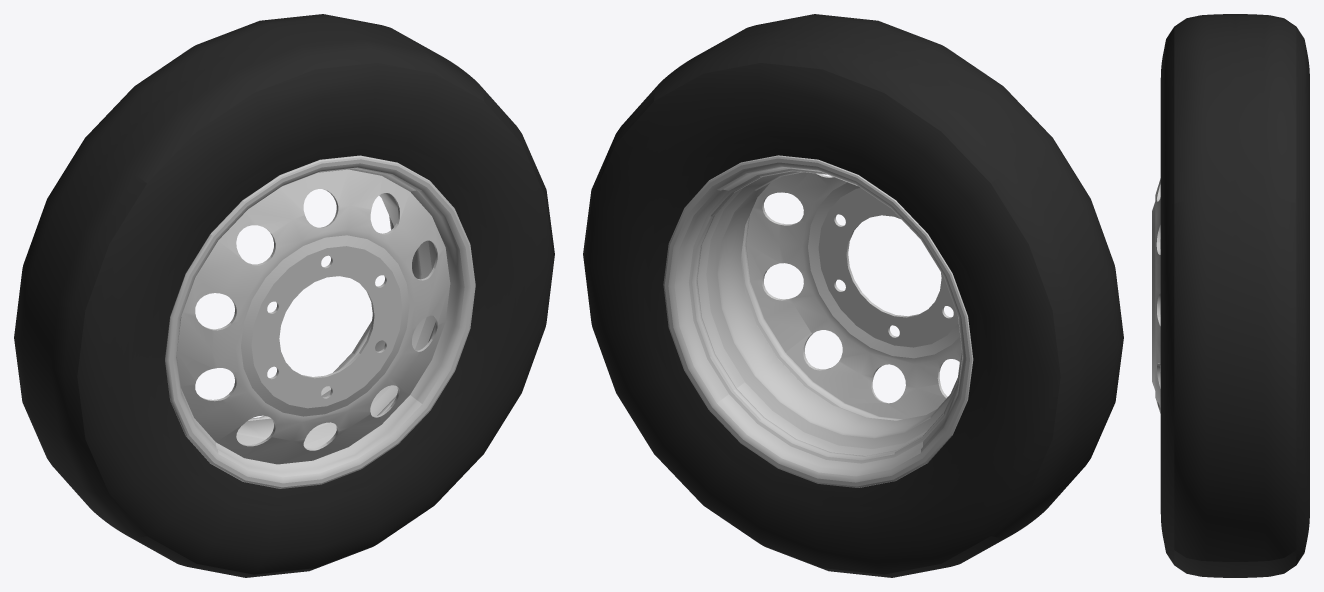
File: wheel.obj
The picture shows the model from 3 angles, left to right: view 1: azimuth 30°, elevation 25°; view 2: azimuth 150°, elevation 25°; view 3: azimuth 270°, elevation 25°; orthographic projection.
Visible parts, largest first — view 1: Mesh2 wheel__0_2 wheel__0_1 wheel__0 wheel RootNode wheel_fbx Sk, Mesh1 wheel__0_2 wheel__0_1 wheel__0 wheel RootNode wheel_fbx Sk; view 2: Mesh2 wheel__0_2 wheel__0_1 wheel__0 wheel RootNode wheel_fbx Sk, Mesh1 wheel__0_2 wheel__0_1 wheel__0 wheel RootNode wheel_fbx Sk; view 3: Mesh2 wheel__0_2 wheel__0_1 wheel__0 wheel RootNode wheel_fbx Sk, Mesh1 wheel__0_2 wheel__0_1 wheel__0 wheel RootNode wheel_fbx Sk.
Boxes of the visible parts, x1=… form: Mesh2 wheel__0_2 wheel__0_1 wheel__0 wheel RootNode wheel_fbx Sk: x1=14, y1=14, x2=554, y2=577; Mesh1 wheel__0_2 wheel__0_1 wheel__0 wheel RootNode wheel_fbx Sk: x1=165, y1=155, x2=475, y2=488; Mesh2 wheel__0_2 wheel__0_1 wheel__0 wheel RootNode wheel_fbx Sk: x1=583, y1=14, x2=1123, y2=577; Mesh1 wheel__0_2 wheel__0_1 wheel__0 wheel RootNode wheel_fbx Sk: x1=663, y1=155, x2=973, y2=487; Mesh2 wheel__0_2 wheel__0_1 wheel__0 wheel RootNode wheel_fbx Sk: x1=1160, y1=14, x2=1309, y2=577; Mesh1 wheel__0_2 wheel__0_1 wheel__0 wheel RootNode wheel_fbx Sk: x1=1152, y1=178, x2=1160, y2=413.
Size of the model in its own units: 275 by 275 by 76.63.
Materials: 1 (1 with a texture image).
